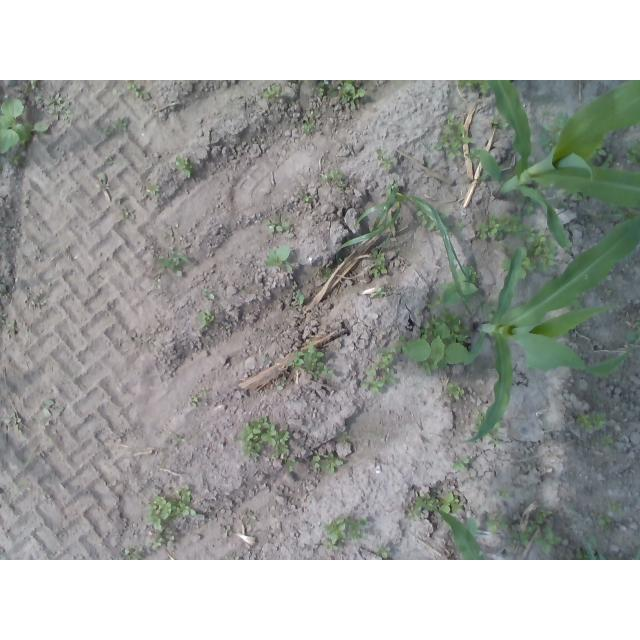Maize: (462, 215, 640, 445), (477, 80, 640, 252), (414, 498, 486, 560)
Weeds: (340, 188, 471, 309), (395, 310, 473, 374), (234, 417, 290, 460), (511, 508, 562, 554), (145, 486, 196, 531), (520, 226, 556, 278), (439, 262, 481, 306), (433, 113, 473, 159), (0, 97, 30, 156), (321, 516, 367, 553), (361, 348, 396, 396), (339, 351, 386, 385), (476, 212, 525, 240), (500, 243, 537, 279), (540, 109, 568, 152), (415, 208, 453, 237), (516, 187, 546, 217), (45, 92, 76, 121), (406, 492, 438, 520), (158, 250, 193, 275), (337, 80, 366, 110), (266, 245, 294, 272), (313, 450, 344, 474), (590, 140, 614, 169), (99, 118, 130, 139), (438, 492, 463, 517), (575, 411, 606, 430), (605, 204, 640, 220), (456, 80, 491, 96), (484, 513, 509, 534), (123, 80, 149, 100), (321, 168, 347, 188), (175, 155, 197, 178), (372, 250, 389, 279), (262, 217, 291, 234), (310, 81, 335, 100), (476, 299, 497, 321), (376, 149, 397, 171), (148, 531, 172, 550), (624, 138, 640, 166), (301, 110, 319, 134), (560, 188, 588, 203), (486, 421, 502, 447), (189, 389, 212, 407), (263, 85, 286, 103), (198, 308, 217, 328), (447, 381, 466, 400), (571, 549, 602, 560), (471, 409, 485, 433), (626, 320, 640, 342), (565, 294, 584, 310), (451, 457, 472, 471), (122, 548, 144, 561), (3, 413, 22, 428), (31, 119, 50, 134), (427, 292, 444, 308), (283, 456, 299, 473), (490, 115, 509, 129), (8, 153, 27, 167), (375, 545, 392, 560), (599, 515, 613, 533), (386, 178, 399, 197), (600, 435, 614, 451), (467, 148, 481, 164), (338, 434, 354, 447), (97, 173, 110, 189), (316, 266, 333, 278), (147, 181, 160, 196), (24, 80, 37, 94), (609, 500, 624, 512), (299, 192, 314, 204), (296, 288, 305, 306), (202, 288, 215, 300), (278, 376, 287, 392), (499, 488, 511, 500), (374, 287, 387, 298), (455, 220, 466, 232), (106, 157, 119, 167), (247, 514, 259, 523), (1, 313, 8, 328), (42, 398, 53, 406), (517, 299, 527, 307), (604, 288, 612, 296), (34, 95, 43, 102), (123, 212, 130, 220), (228, 556, 240, 560), (177, 437, 183, 443), (1, 164, 4, 173)
